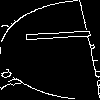I: (24, 25, 100, 44)
